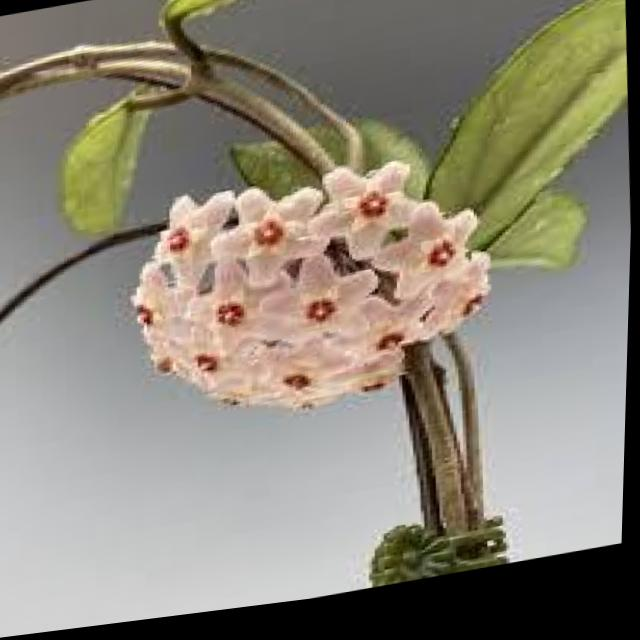Flower: (125, 132, 513, 459)
